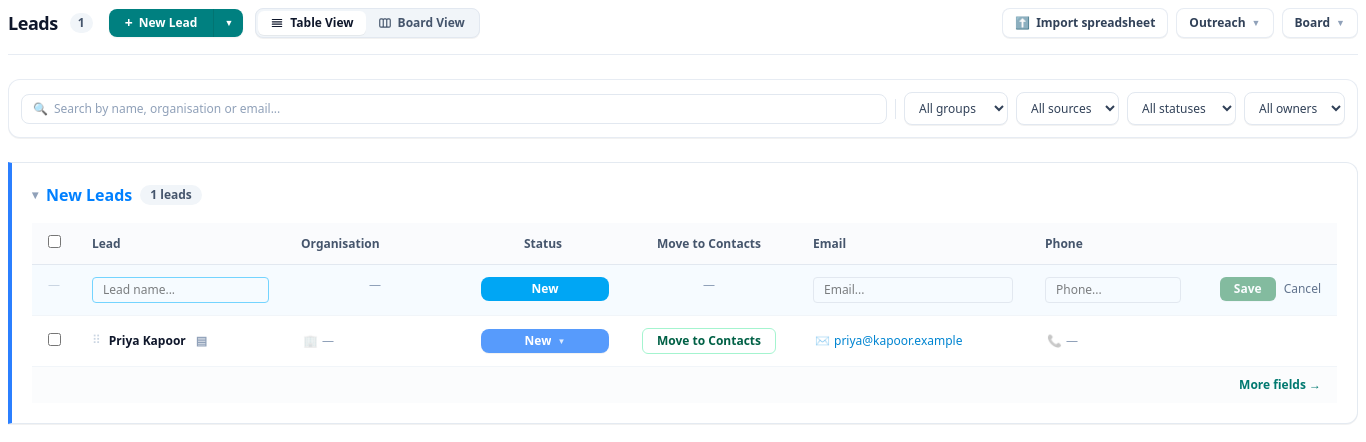
Test: LeadsPage › one click uses a cell, two change it › leaves the email a link, and only opens the editor on a double click
Expected: the button "Priya Kapoor" is shown, [109,333,186,349]
Click the link "priya@kapoor.example": [898, 341] box [834,333,962,349]
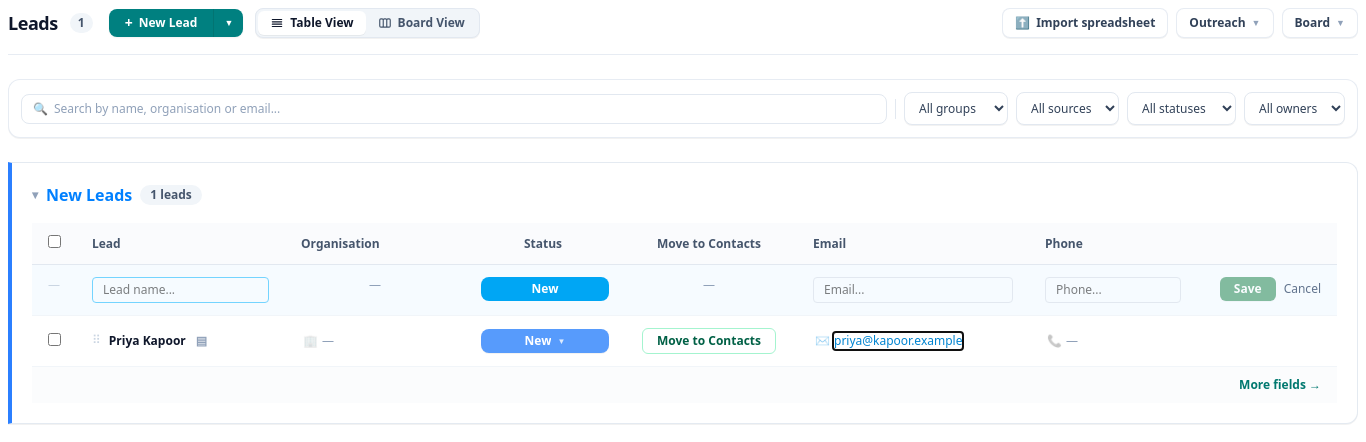
Double-click the link "priya@kapoor.example": [898, 341] box [834,333,962,349]
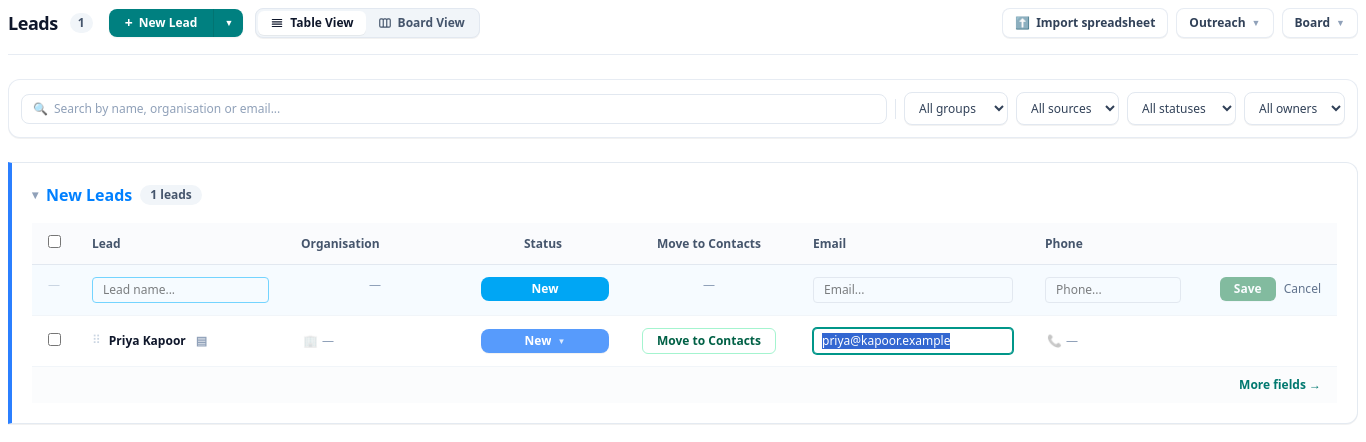
Now the field named "Email of Priya Kapoor" holds "priya@kapoor.example", box [813,328,1013,354]
